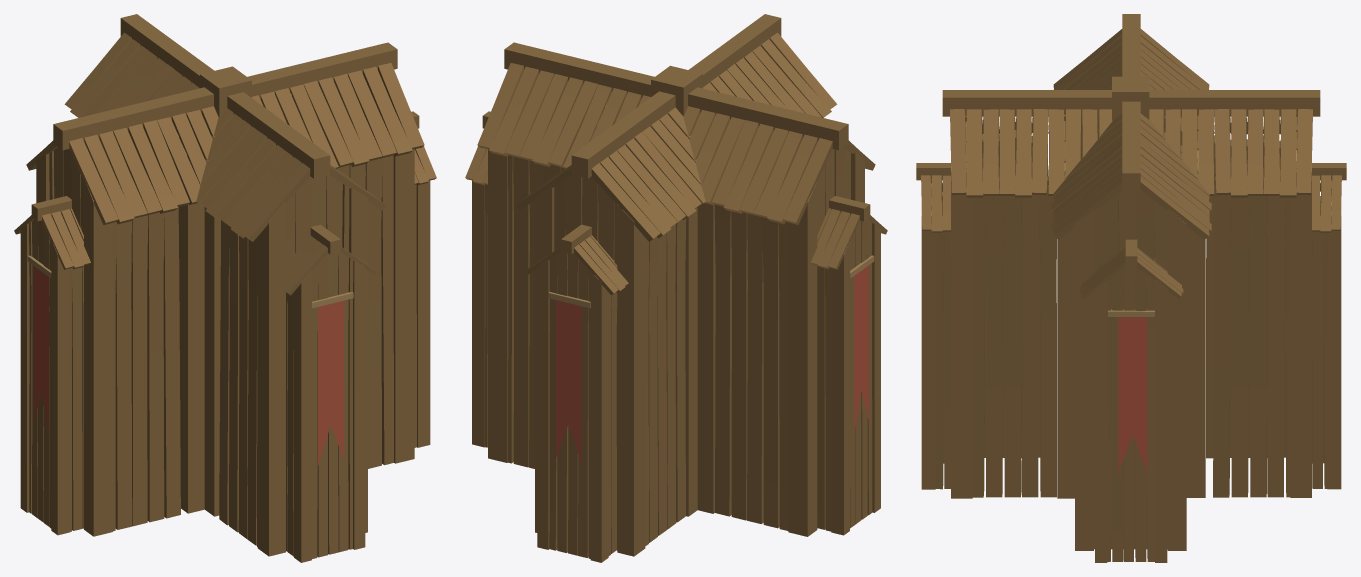
File: Temple-nR264crTSr.glb
3 renders of one model, left to right at view 1: azimuth 30°, elevation 25°; view 2: azimuth 150°, elevation 25°; view 3: azimuth 270°, elevation 25°, orthographic. The views are drawn at different scales.
Visible parts, largest first — view 1: Temple-nR264crTSr; view 2: Temple-nR264crTSr; view 3: Temple-nR264crTSr.
Boxes of the visible parts, x1,y1,x2,y2 form: Temple-nR264crTSr: [14, 14, 436, 562]; Temple-nR264crTSr: [465, 14, 887, 562]; Temple-nR264crTSr: [916, 14, 1346, 562].
Bounding box in the file's own units: 3.62 × 3.63 × 3.62.
